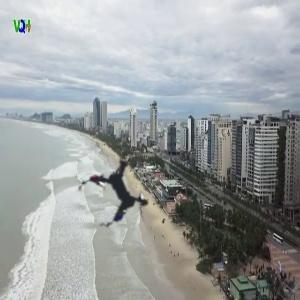drone: (54, 128, 190, 264)
